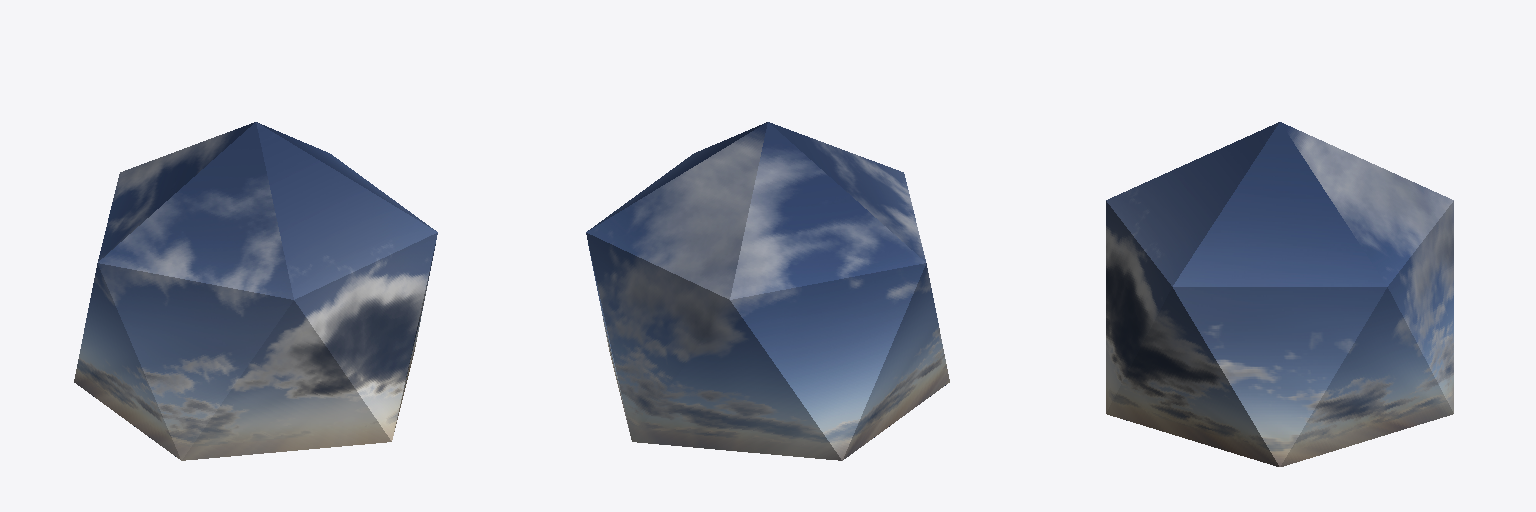
3 views of the same model, side by side, from view 1: azimuth 30°, elevation 25°; view 2: azimuth 150°, elevation 25°; view 3: azimuth 270°, elevation 25° (orthographic).
Parts seen in each view (by area): view 1: Icosphere; view 2: Icosphere; view 3: Icosphere.
Boxes of the visible parts, box(x1,y1,x2,y2) form: Icosphere: box(74, 122, 437, 460); Icosphere: box(586, 122, 949, 460); Icosphere: box(1106, 122, 1453, 466).
Size of the model in its own units: 32.2 by 26.05 by 30.62.
1 materials, 1 textured.